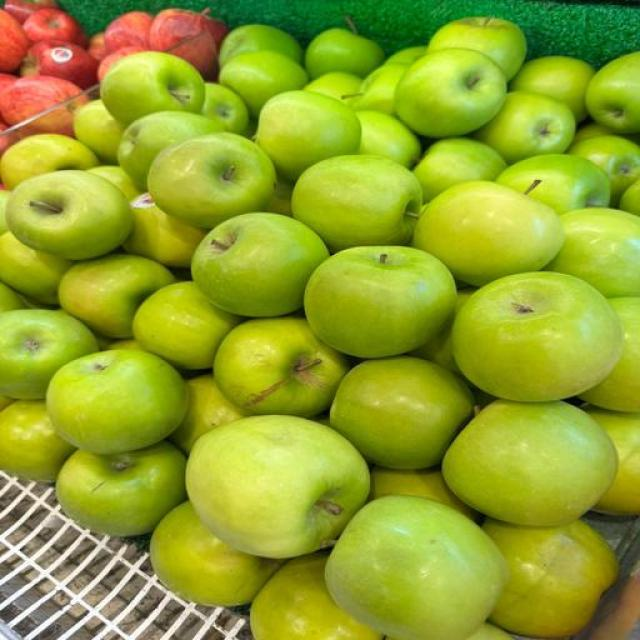organic: (214, 0, 639, 66), (187, 415, 369, 558), (325, 497, 507, 639), (453, 272, 622, 402), (443, 400, 617, 526), (304, 245, 456, 358), (483, 519, 618, 637), (330, 357, 473, 468), (413, 182, 564, 286), (47, 349, 188, 454), (192, 213, 328, 317), (214, 317, 349, 417), (150, 502, 279, 606), (292, 154, 421, 252), (148, 133, 276, 228), (57, 442, 186, 536), (250, 553, 382, 639), (7, 169, 132, 259), (394, 49, 506, 138), (255, 90, 361, 182), (59, 254, 174, 338), (133, 282, 241, 369), (0, 309, 98, 399), (118, 112, 223, 191), (548, 208, 639, 298), (100, 52, 204, 124), (473, 92, 576, 163), (495, 154, 611, 213), (580, 298, 639, 413), (428, 14, 527, 79), (169, 374, 246, 453), (0, 400, 74, 482), (123, 194, 204, 268), (219, 50, 308, 117), (414, 138, 506, 202), (587, 407, 639, 516), (510, 55, 594, 122), (370, 467, 477, 519), (0, 134, 98, 189), (0, 75, 88, 136), (412, 288, 474, 373), (0, 232, 73, 304), (568, 135, 639, 207), (150, 9, 217, 78), (585, 52, 639, 133), (304, 25, 384, 78), (357, 110, 421, 168), (20, 42, 98, 88), (219, 24, 302, 66), (74, 100, 124, 164), (352, 62, 408, 114), (23, 8, 87, 46), (202, 83, 248, 134), (88, 165, 141, 203), (304, 72, 362, 106), (105, 12, 153, 52), (0, 9, 29, 72), (98, 47, 144, 81), (4, 0, 58, 23), (265, 179, 293, 216), (574, 122, 616, 143), (384, 45, 426, 64), (619, 178, 639, 216), (0, 282, 24, 312), (467, 623, 512, 639), (88, 33, 109, 61), (0, 190, 9, 234), (0, 395, 13, 411)
